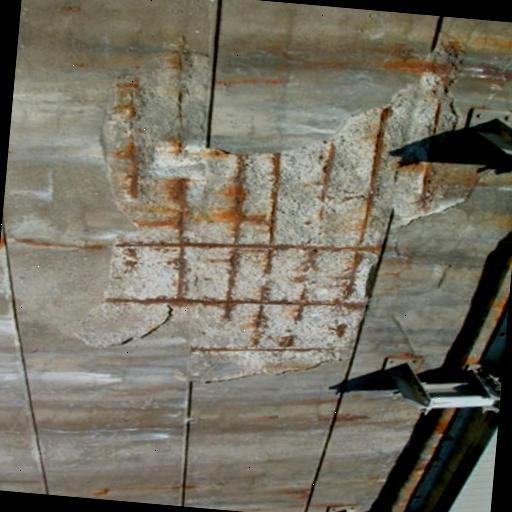spalling: (81, 70, 476, 378)
